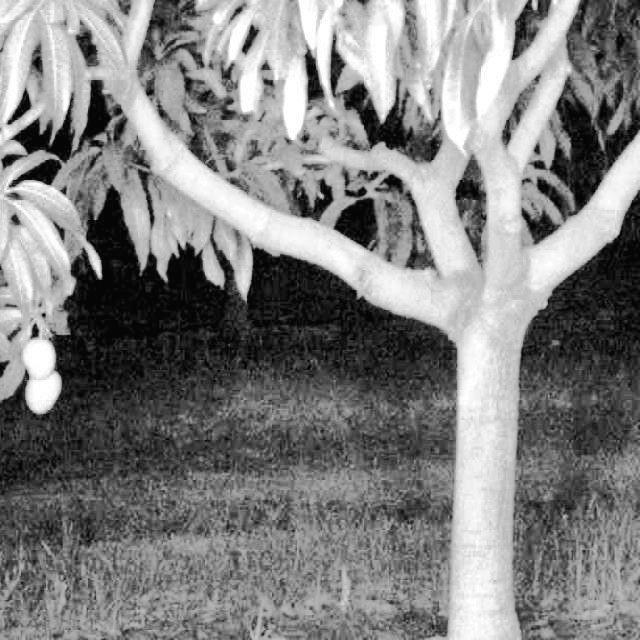Tree: (304, 0, 639, 639)
